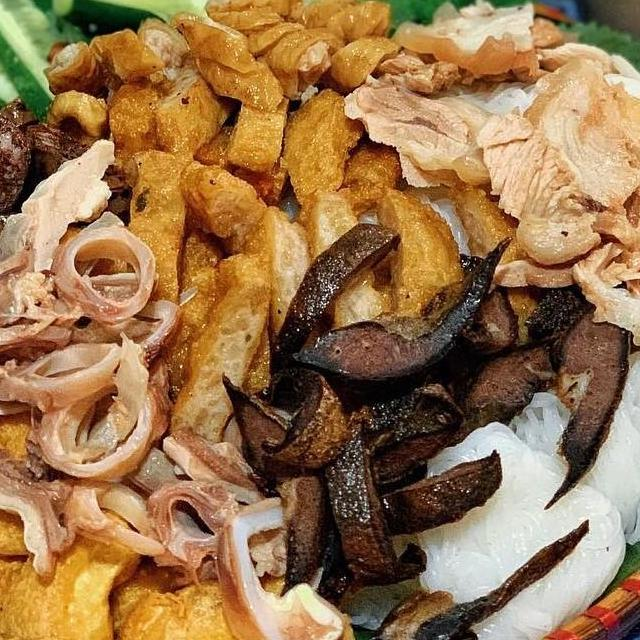bun: (399, 286, 640, 640)
bun dau: (0, 0, 640, 640)
cha com: (110, 134, 328, 458)
dau hu: (0, 483, 147, 640), (92, 553, 284, 640)
doi sun: (0, 79, 92, 238)
thit heo: (324, 29, 640, 347)
